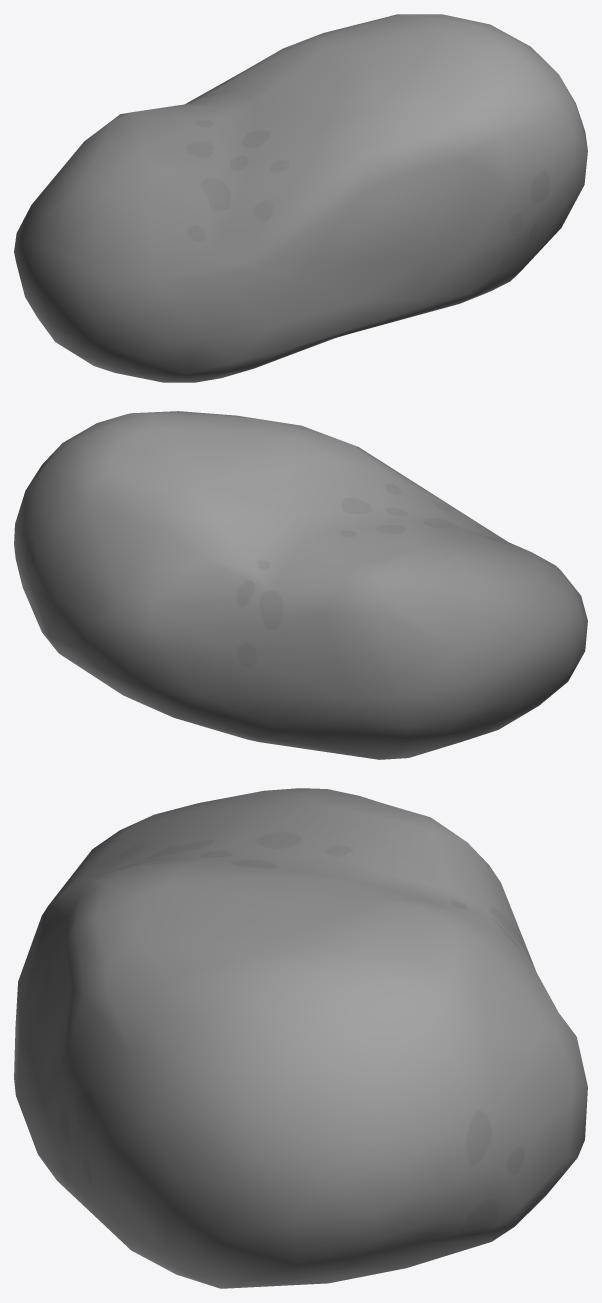
File: Peb02.fbx
3 renders of one model, top to bottom at view 1: azimuth 30°, elevation 25°; view 2: azimuth 150°, elevation 25°; view 3: azimuth 270°, elevation 25°, orthographic. The views are drawn at different scales.
Parts seen in each view (by area): view 1: Peb02; view 2: Peb02; view 3: Peb02.
Part boxes in pixels (x1,y1,x2,y2): Peb02: [14, 14, 587, 382]; Peb02: [14, 411, 587, 759]; Peb02: [14, 788, 587, 1288].
Size of the model in its own units: 7.22 by 3.22 by 4.54.
